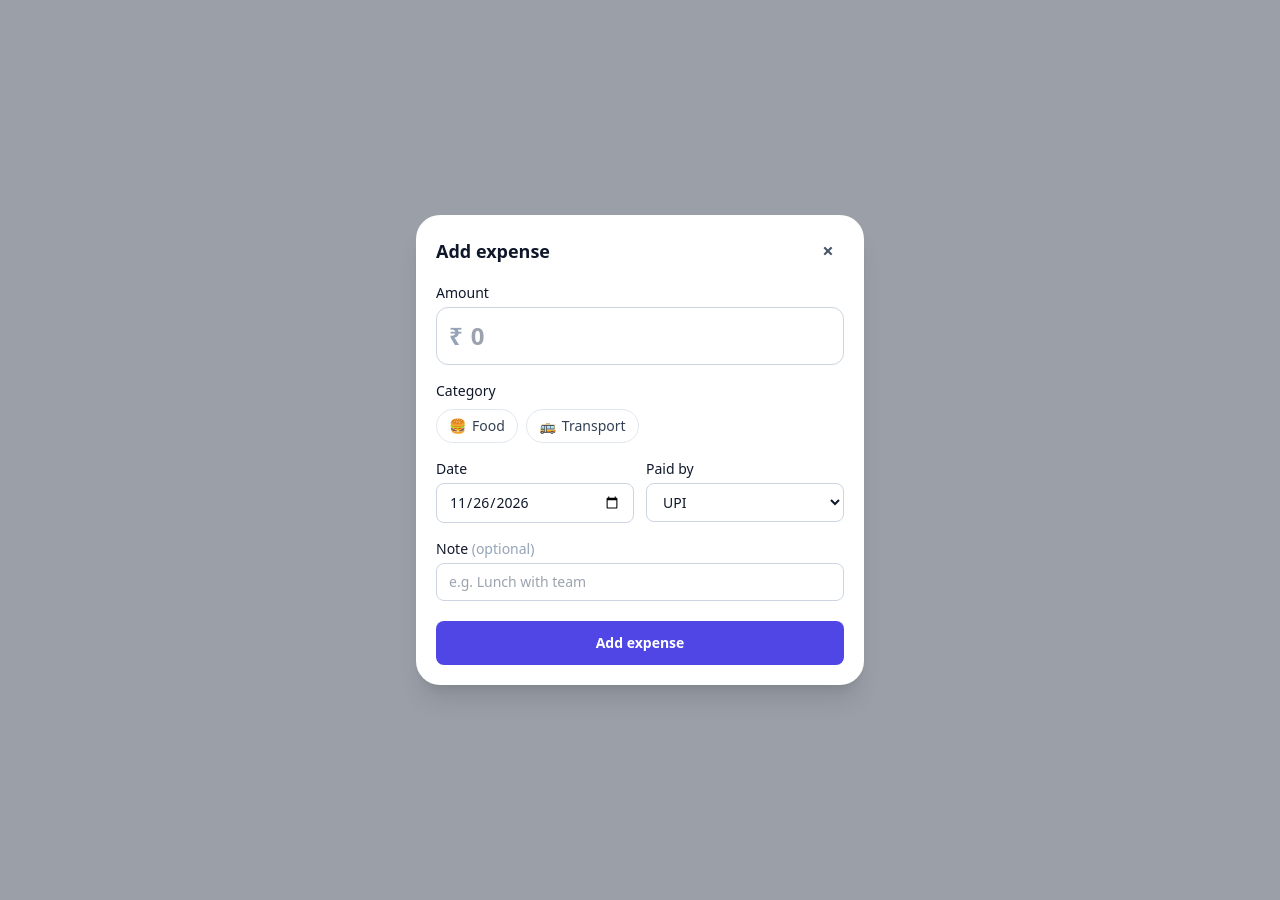
Test: add mode › asks for a category before saving
This screenshot has width=1280, height=900.
Step 1. Type "100" into the number field with placeholder "0" → [647, 336], box [463,308,831,364]
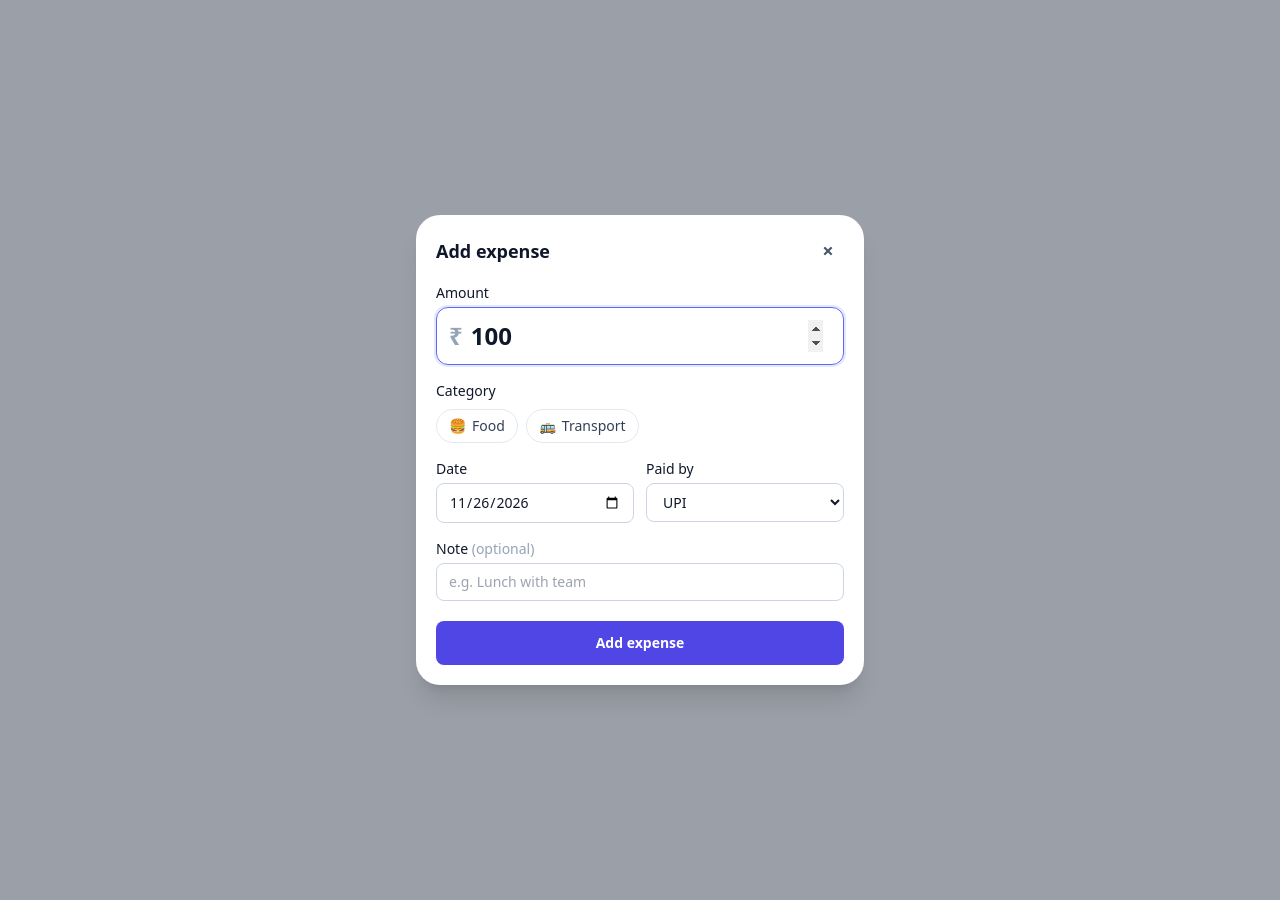
Step 2. Click the button "Add expense" → [640, 643], box [436,621,844,665]
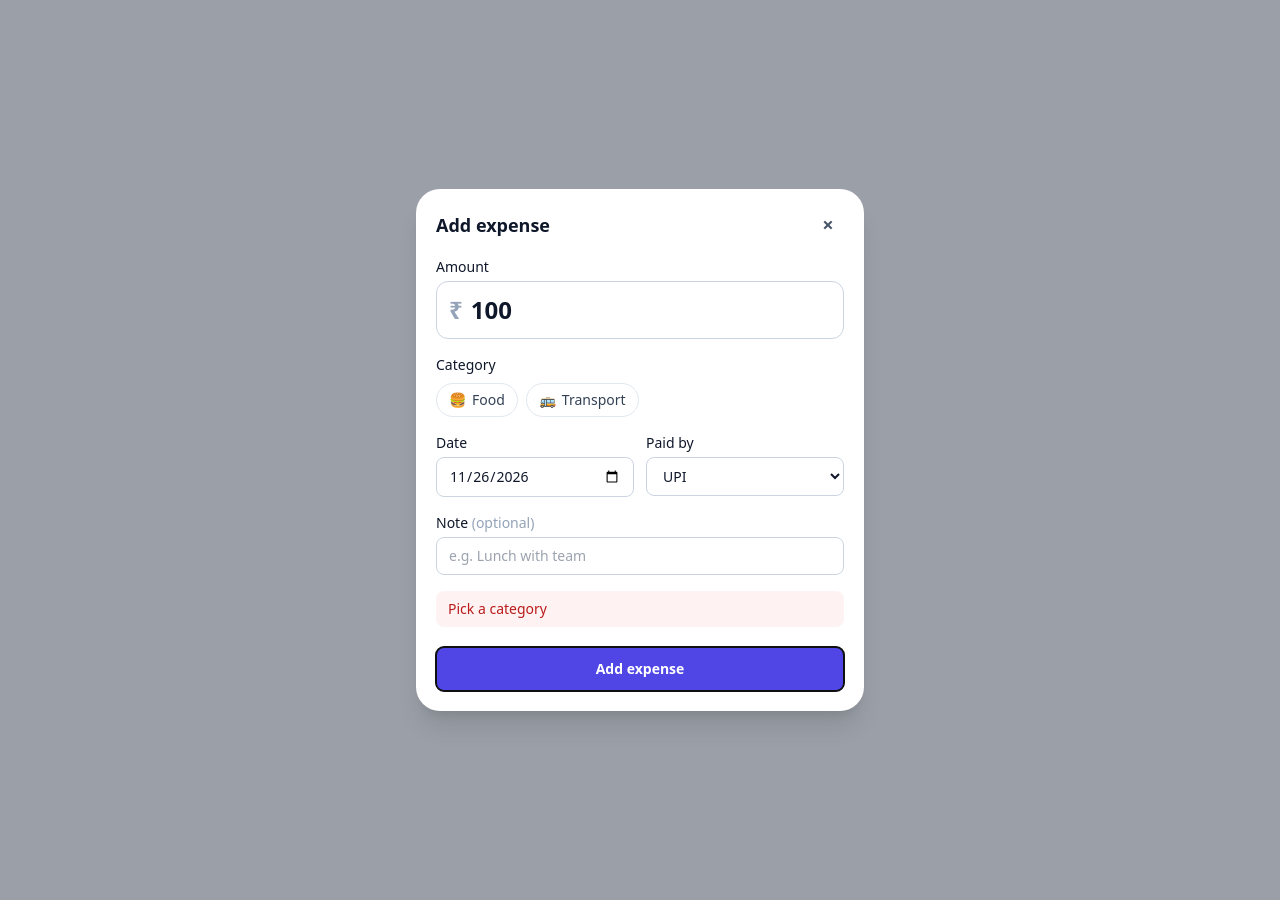
Now the text "Pick a category" is shown, box [436,591,844,627]
